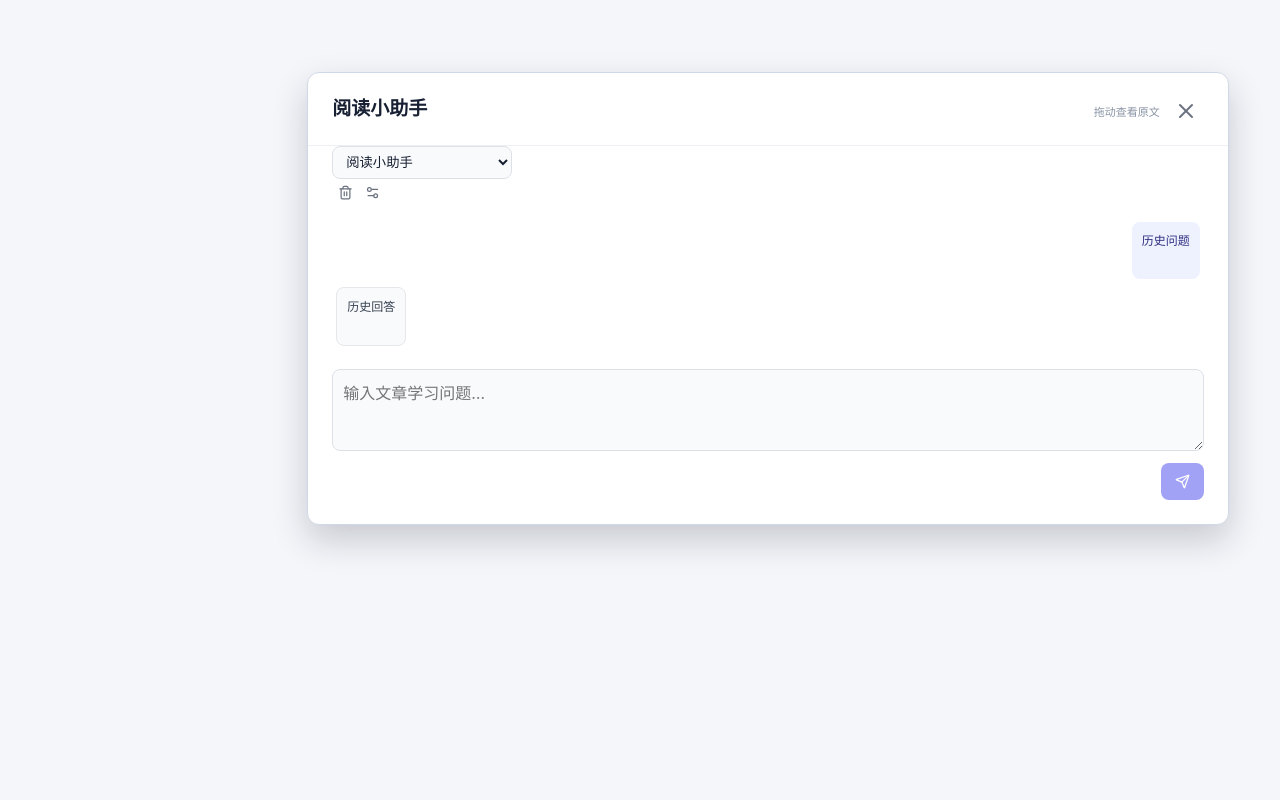
Test case: ReadingAssistantModal › 按文章恢复历史并允许本地清空
Expected: the text "历史问题" is shown, [1142,231,1190,251]
Expected: the text "历史回答" is shown, [347,297,395,317]
Click the button named "清空对话" at (346, 192), box [332,179,359,206]
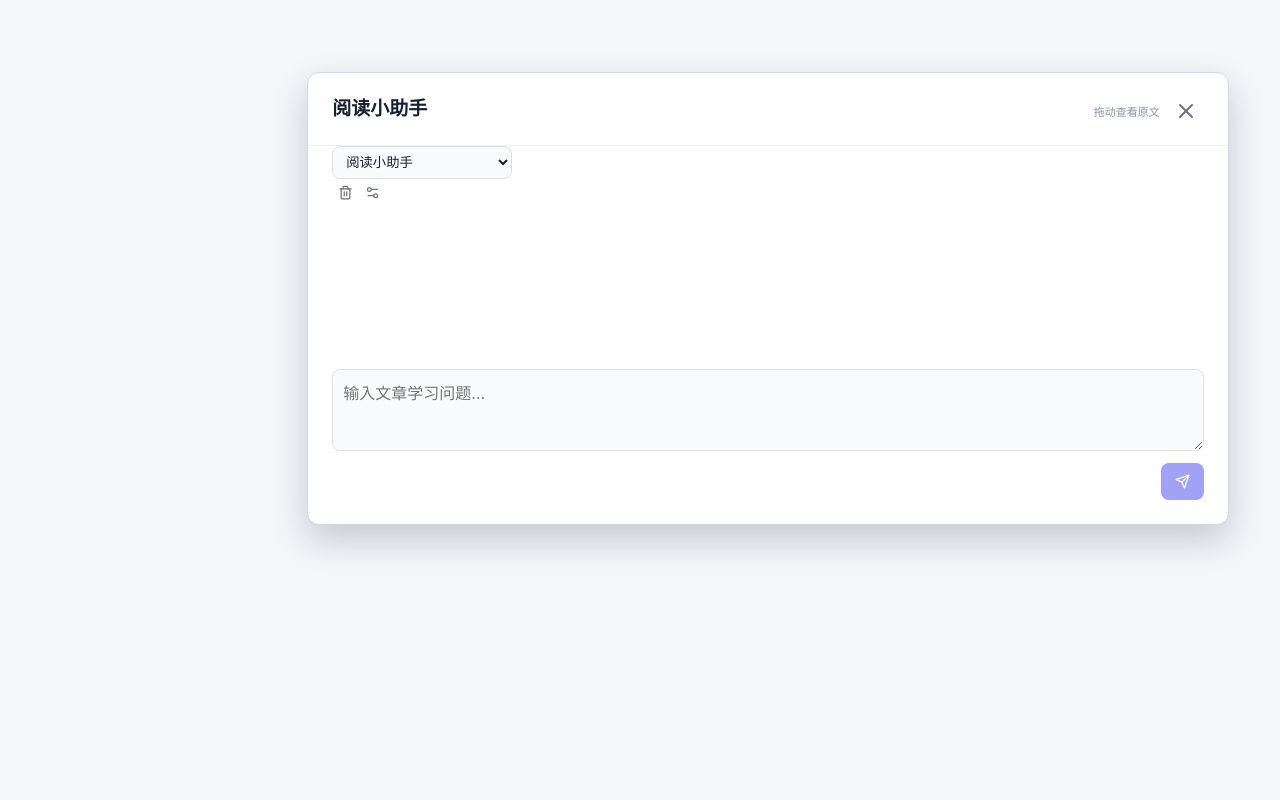
Expected: the text "历史问题" is gone
